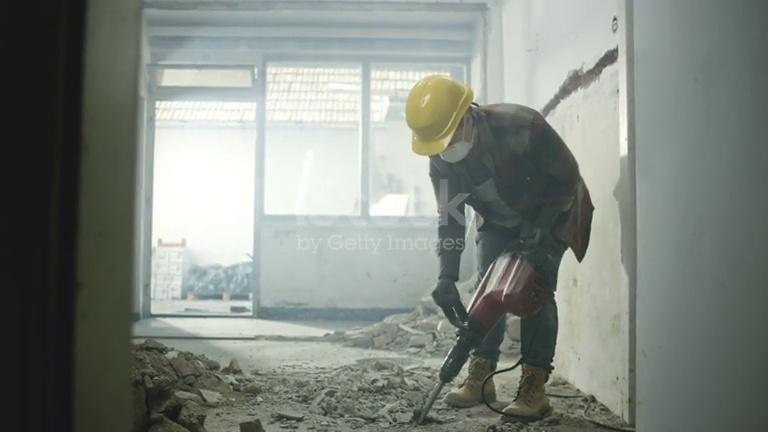helmet: (405, 73, 474, 157)
mask: (431, 139, 476, 163)
person: (406, 75, 596, 422)
